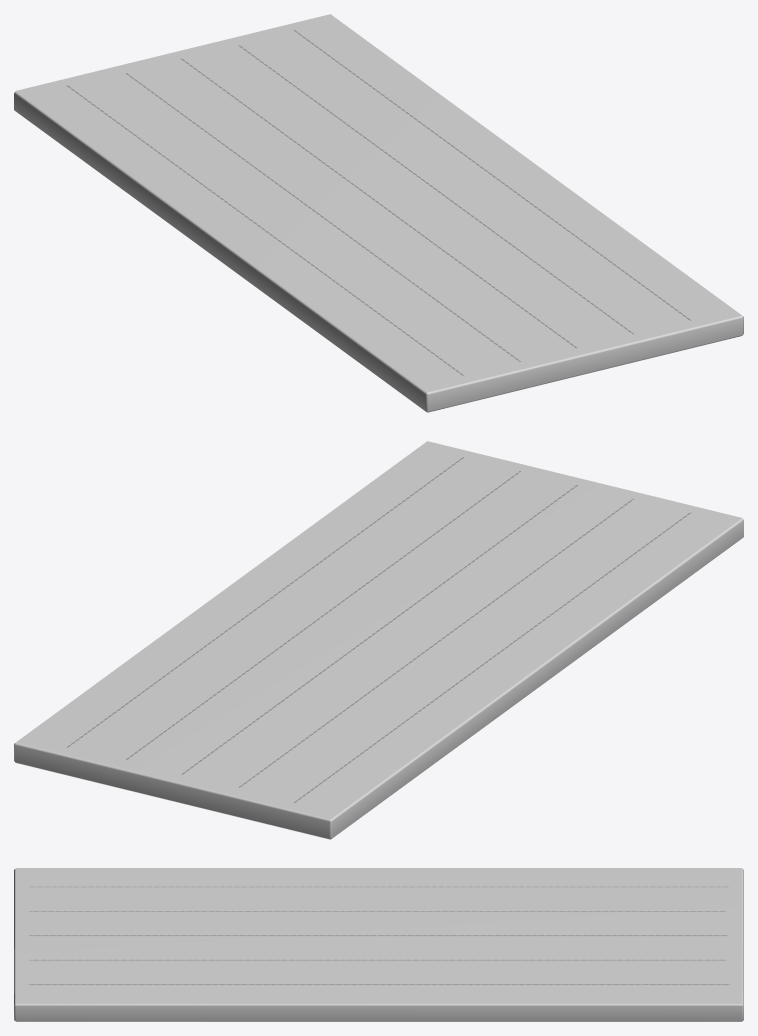
File: GymMat.FBX
The picture shows the model from 3 angles, top to bottom: view 1: azimuth 30°, elevation 25°; view 2: azimuth 150°, elevation 25°; view 3: azimuth 270°, elevation 25°; orthographic projection. The views are drawn at different scales.
Visible parts, largest first — view 1: GymMat; view 2: GymMat; view 3: GymMat.
Part boxes in pixels (x1,y1,x2,y2): GymMat: [14, 14, 743, 412]; GymMat: [14, 441, 743, 839]; GymMat: [14, 868, 743, 1021].
Bounding box in the file's own units: 80 × 5 × 180.
